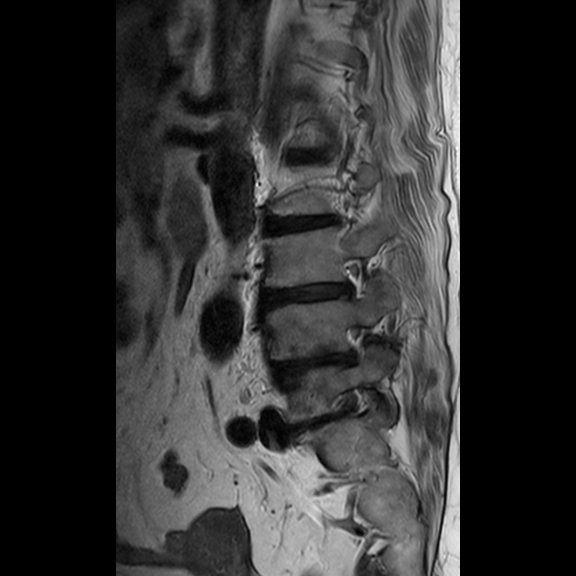LFS0: (335, 249, 376, 310)
LFS1: (338, 315, 379, 378)
